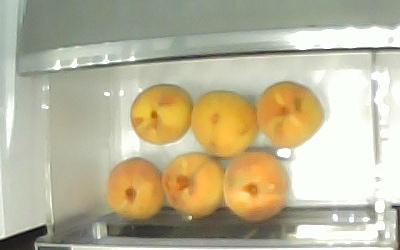peach: (223, 152, 288, 220), (255, 82, 324, 146), (191, 91, 257, 153), (161, 154, 222, 216), (131, 84, 192, 144), (107, 159, 164, 218)
